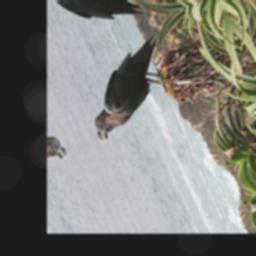Crow: (65, 31, 190, 147)
